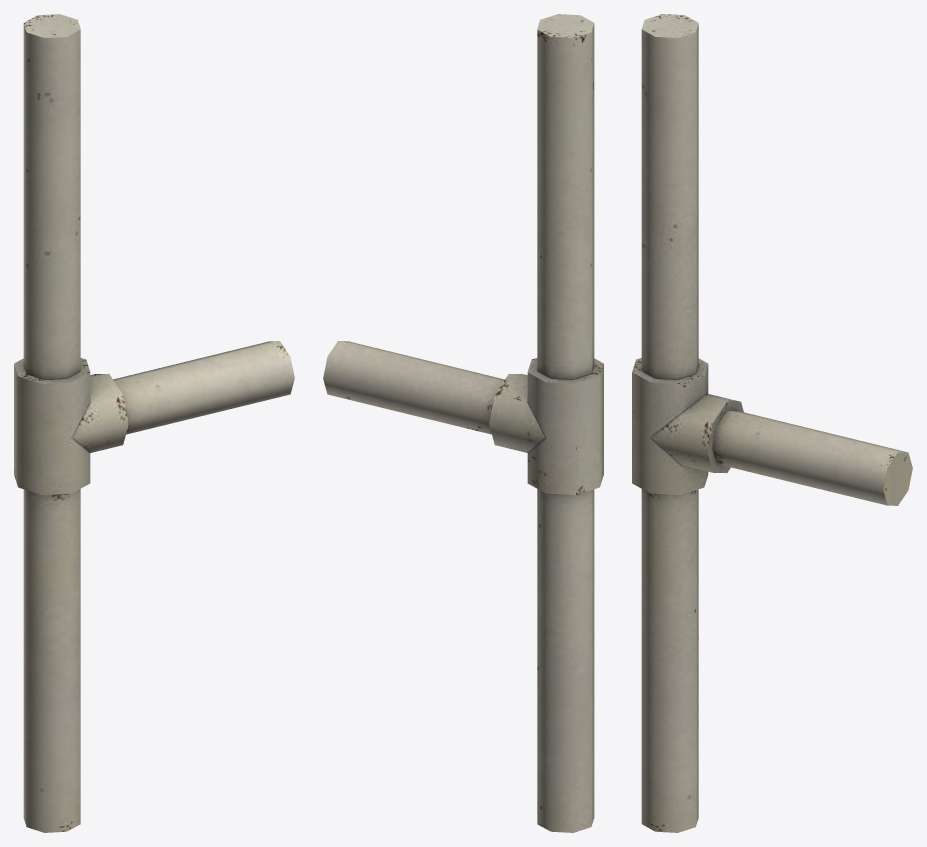
Rendered from pipe_tee_lod1_web.glb.
3 views of the same model, side by side, from view 1: azimuth 30°, elevation 25°; view 2: azimuth 150°, elevation 25°; view 3: azimuth 330°, elevation 25° (orthographic).
Parts seen in each view (by area): view 1: PipeTee_Body; view 2: PipeTee_Body; view 3: PipeTee_Body.
Boxes of the visible parts, box(x1,y1,x2,y2) form: PipeTee_Body: box(14, 14, 294, 832); PipeTee_Body: box(323, 14, 603, 832); PipeTee_Body: box(632, 14, 912, 832).
Size of the model in its own units: 0.138 by 0.4 by 0.036.
1 material, 1 textured.
